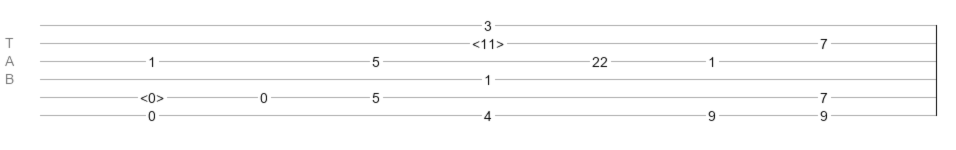0: (148, 108, 156, 118), (260, 90, 268, 100)
1: (148, 54, 156, 64), (484, 72, 492, 82), (708, 54, 716, 64)
22: (592, 54, 608, 64)
3: (484, 18, 492, 28)
4: (484, 108, 492, 118)
5: (372, 54, 380, 64), (372, 90, 380, 100)
7: (820, 36, 828, 46), (820, 90, 828, 100)
9: (708, 108, 716, 118), (820, 108, 828, 118)
harmonic: (472, 36, 504, 46), (140, 90, 164, 100)
